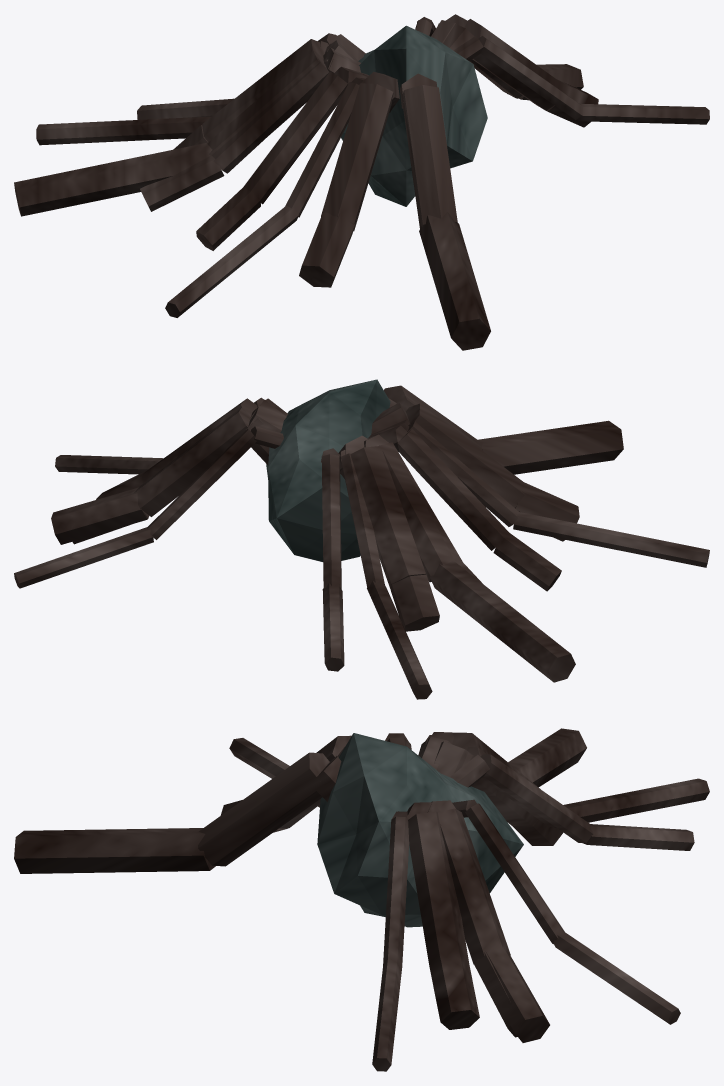
Rendered from 0165_root_cluster_15.glb.
3 renders of one model, top to bottom at view 1: azimuth 30°, elevation 25°; view 2: azimuth 150°, elevation 25°; view 3: azimuth 270°, elevation 25°, orthographic. The views are drawn at different scales.
Parts seen in each view (by area): view 1: wood_dark, stone_dark; view 2: wood_dark, stone_dark; view 3: wood_dark, stone_dark.
Part boxes in pixels (x1,y1,x2,y2): wood_dark: [14, 14, 709, 350]; stone_dark: [341, 25, 487, 206]; wood_dark: [14, 385, 709, 699]; stone_dark: [266, 379, 390, 561]; wood_dark: [14, 728, 709, 1071]; stone_dark: [317, 733, 523, 927].
Bounding box in the file's own units: 2.57 × 0.6845 × 2.34.
Materials: 2 (2 with a texture image).
